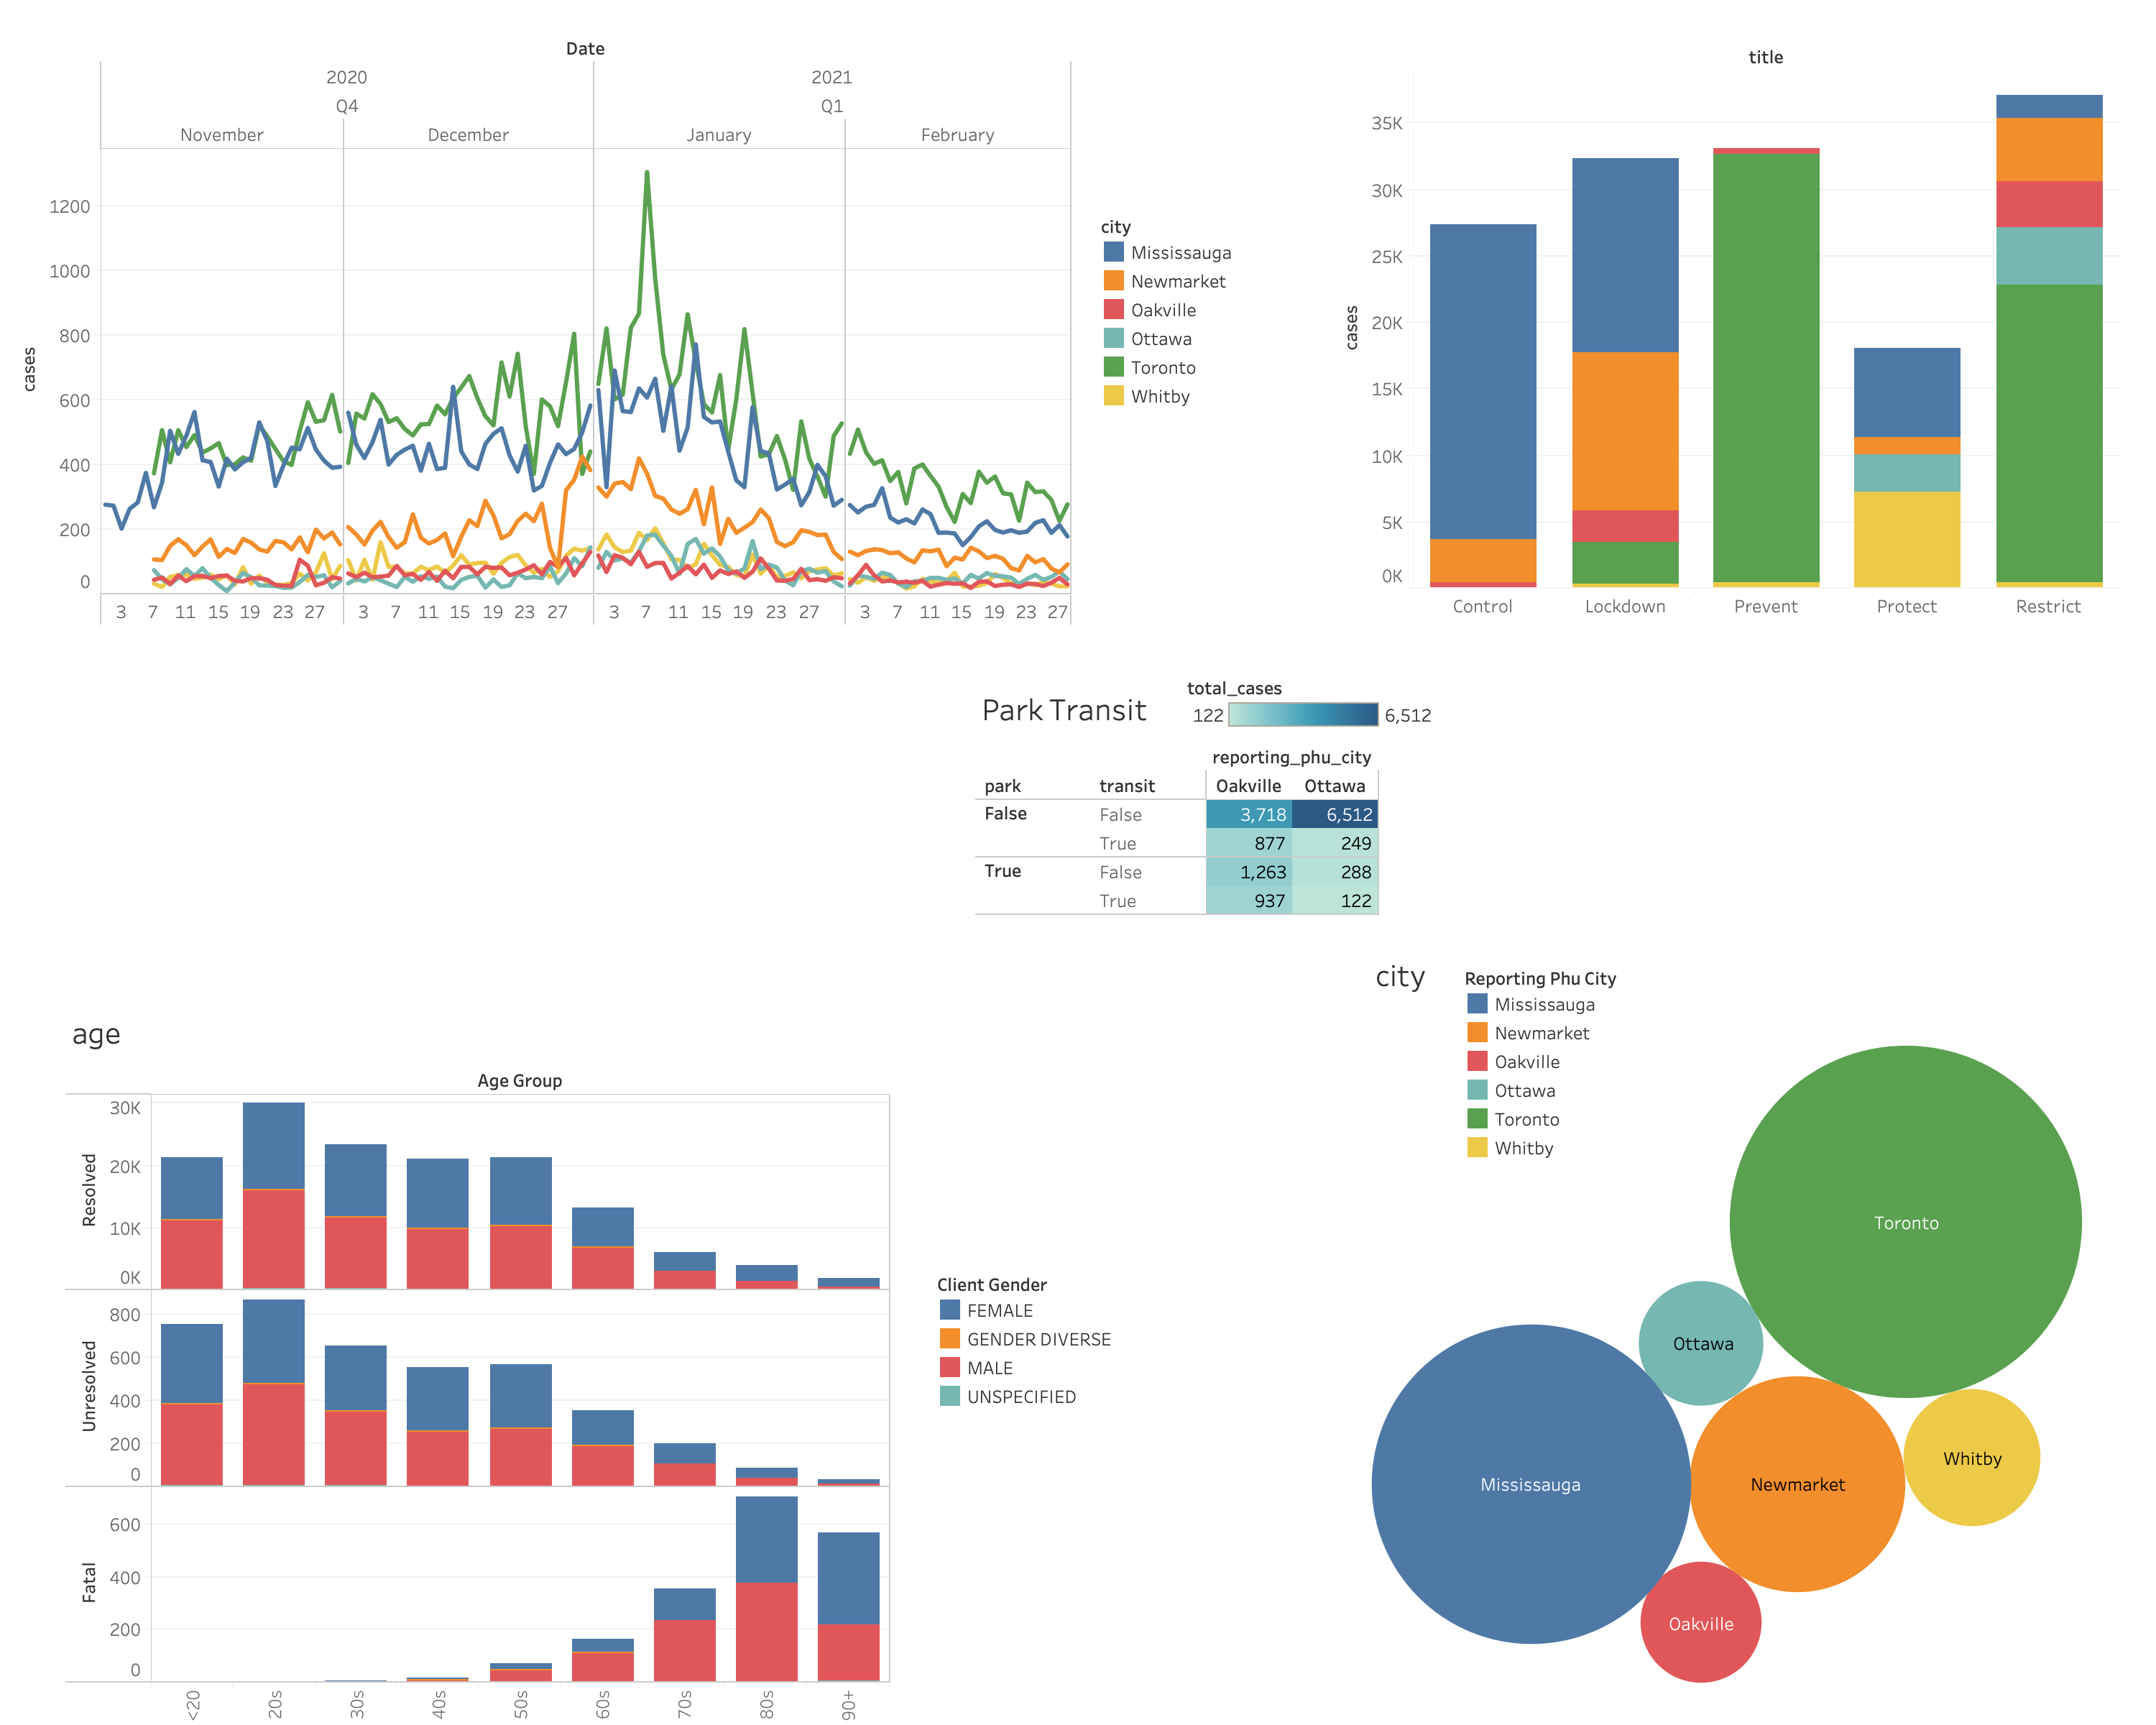

This screenshot's page, from the dashboard's own definition file:
{"tool":"tableau","page":{"name":"Dashboard 1","canvas":[1500,1200],"ordinal":0},"visuals":[{"type":"worksheet","title":"date","mark":"Automatic","rows":["cases (Custom SQL Query1)"],"cols":["date","date","date","date"],"box":[4,8,742,427]},{"type":"worksheet","title":"special","mark":"Automatic","rows":["cases"],"cols":["title"],"box":[923.7,13.5,551.2,415.5]},{"type":"worksheet","title":"date","mark":"Automatic","rows":["cases (Custom SQL Query1)"],"cols":["date","date","date","date"],"param":"[federated.1rprhto1wan1ua1exkw2b1lt2y8d].[none:city:nk]","box":[765,147,210,208.5]},{"type":"worksheet","title":"mobility","mark":"Square","rows":["park","transit"],"cols":["reporting_phu_city"],"param":"[federated.1rprhto1wan1ua1exkw2b1lt2y8d].[sum:total_cases:qk]","box":[826,466,175,114]},{"type":"worksheet","title":"mobility","mark":"Square","rows":["park","transit"],"cols":["reporting_phu_city"],"box":[679,473,388,247]},{"type":"worksheet","title":"city","mark":"Circle","box":[953,658,518,539]},{"type":"worksheet","title":"city","mark":"Circle","param":"[federated.1rprhto1wan1ua1exkw2b1lt2y8d].[none:reporting_phu_city (phu_location_","box":[1018,670,140,138]},{"type":"worksheet","title":"age","mark":"Automatic","rows":["resolved","unresolved","fatal"],"cols":["age_group"],"param":"[federated.1rprhto1wan1ua1exkw2b1lt2y8d].[none:client_gender:nk]","box":[651,883,175,150]}]}

Visuals, with their boxes in screenshot pixels (x1, y1, x2, y2), scaled from the page's 1500x1200 canvas onto the 2156x1725 screenshot:
"date" worksheet: (6, 11, 1072, 625)
"special" worksheet: (1327, 19, 2120, 617)
"date" worksheet: (1100, 211, 1401, 511)
"mobility" worksheet (Square marks): (1187, 670, 1439, 834)
"mobility" worksheet (Square marks): (976, 680, 1534, 1035)
"city" worksheet (Circle marks): (1370, 946, 2114, 1721)
"city" worksheet (Circle marks): (1463, 963, 1664, 1161)
"age" worksheet: (936, 1269, 1187, 1485)
